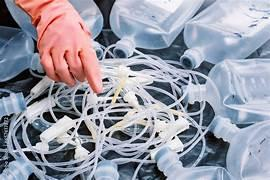Glove: (15, 0, 101, 92)
Iv_Bottle: (180, 0, 269, 68), (110, 0, 203, 57), (187, 59, 269, 123), (210, 116, 269, 179), (155, 147, 232, 179), (0, 26, 42, 81), (69, 0, 103, 57), (0, 158, 33, 179), (258, 40, 270, 58)
